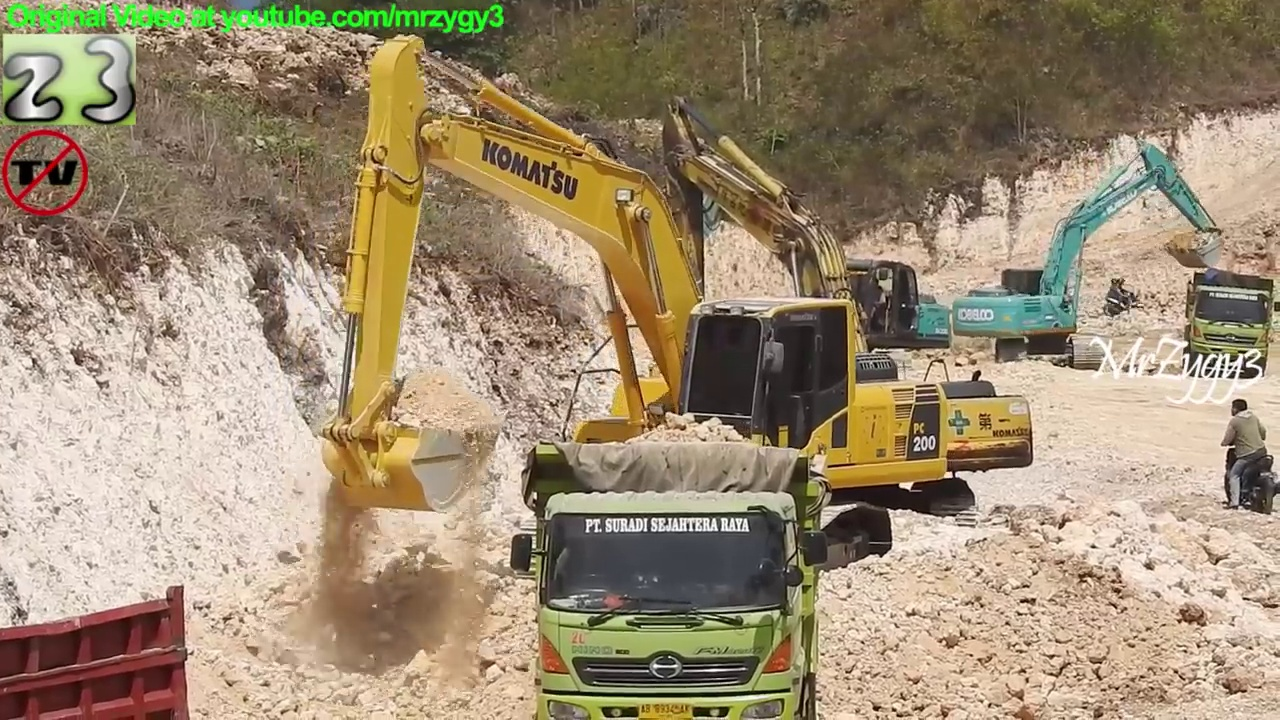excavator: (313, 28, 957, 602), (631, 90, 1043, 540), (607, 150, 955, 388), (951, 136, 1231, 374)
truck: (507, 436, 840, 720), (1, 581, 195, 720), (1181, 265, 1280, 382)
